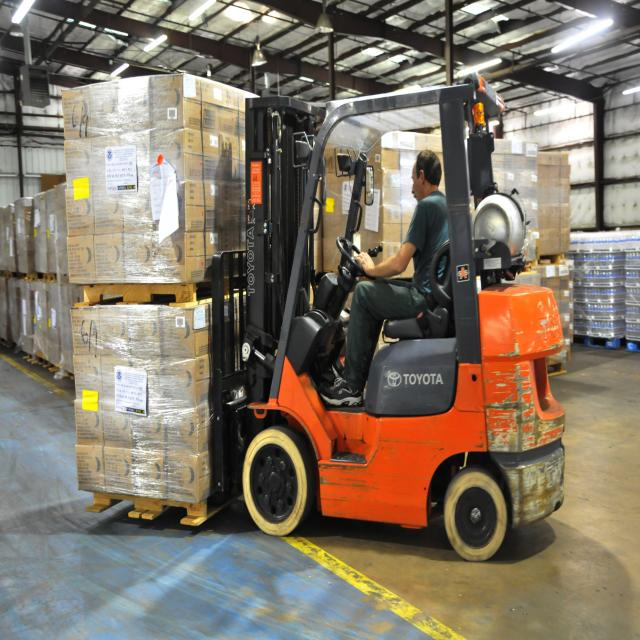Person: (320, 151, 450, 407)
